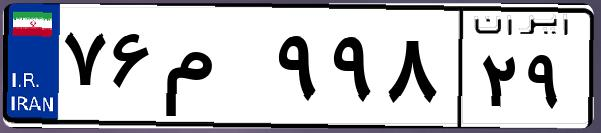2: (475, 38, 525, 113)
6: (110, 28, 158, 98)
7: (57, 26, 110, 100)
8: (385, 28, 445, 110)
9: (270, 28, 330, 110), (330, 28, 385, 110), (525, 38, 570, 115)
م: (158, 20, 270, 120)
